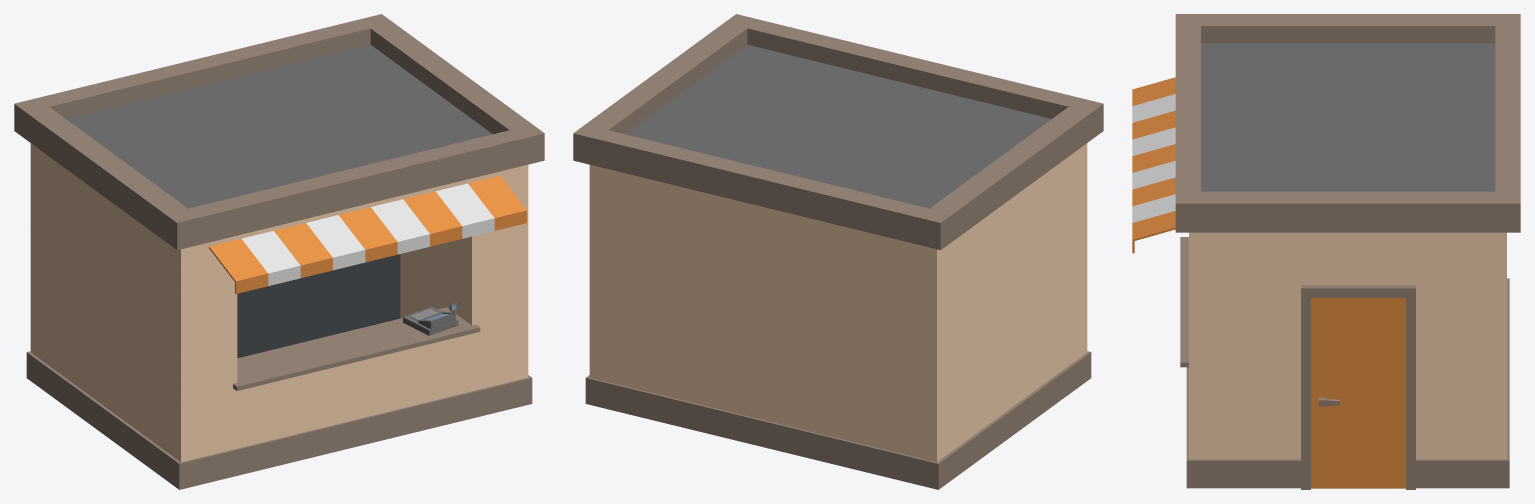
File: SmallMarket_01.fbx
3 renders of one model, left to right at view 1: azimuth 30°, elevation 25°; view 2: azimuth 150°, elevation 25°; view 3: azimuth 270°, elevation 25°, orthographic. The views are drawn at different scales.
Visible parts, largest first — view 1: SmallMarket_01; view 2: SmallMarket_01; view 3: SmallMarket_01.
Boxes of the visible parts, x1,y1,x2,y2 form: SmallMarket_01: (14, 14, 544, 489); SmallMarket_01: (573, 14, 1103, 489); SmallMarket_01: (1132, 14, 1520, 489).
Size of the model in its own units: 424 by 300 by 366.
